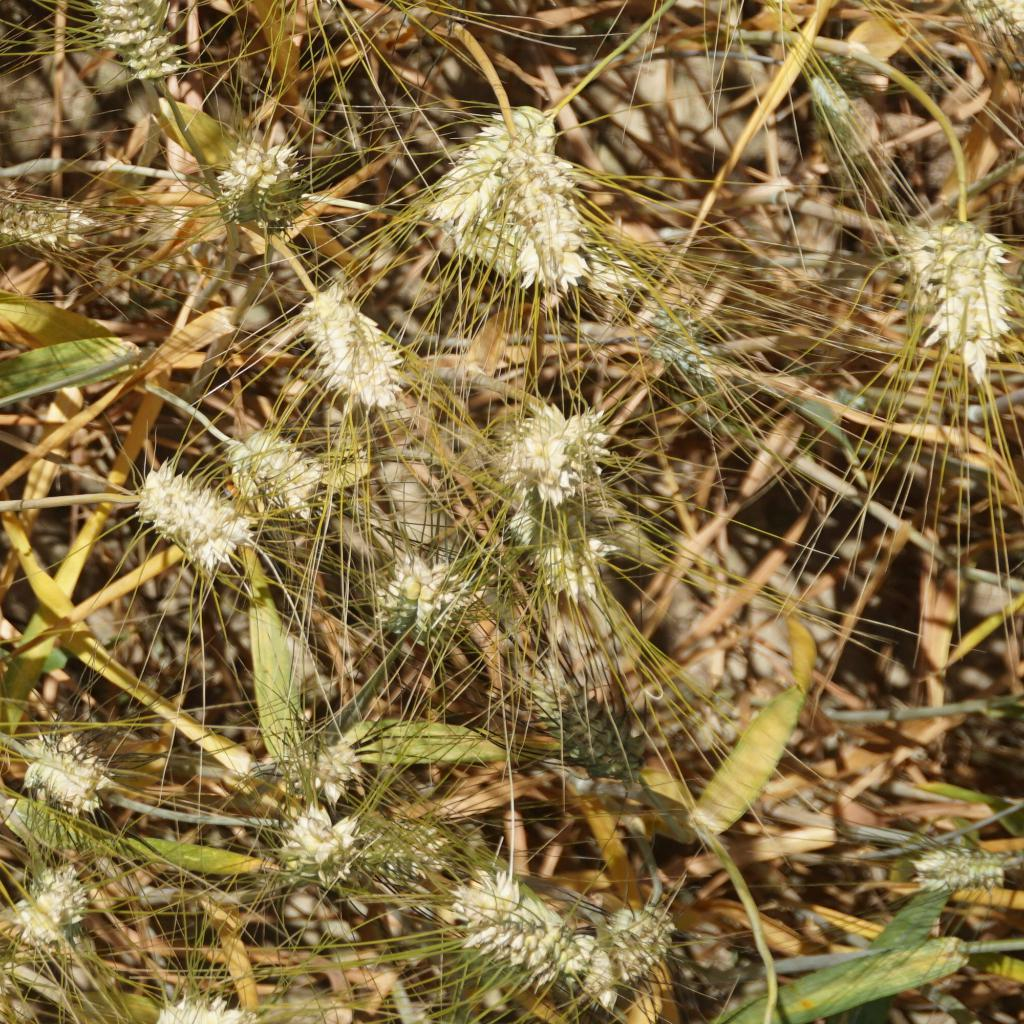0-0: (893, 208, 1023, 388), (446, 863, 601, 988), (418, 88, 552, 230), (452, 209, 632, 306), (502, 474, 619, 607), (139, 458, 259, 583), (567, 902, 688, 1017), (535, 670, 650, 790), (299, 275, 405, 405), (501, 400, 613, 512), (0, 850, 104, 962), (516, 148, 588, 295), (213, 133, 306, 242), (370, 541, 468, 638), (230, 425, 320, 530), (285, 707, 381, 801), (91, 0, 189, 87), (0, 179, 103, 257), (22, 732, 114, 819), (346, 815, 451, 888), (789, 48, 874, 136), (276, 801, 360, 887), (138, 973, 267, 1024), (643, 297, 714, 389), (906, 836, 1003, 903), (952, 0, 1024, 49)
